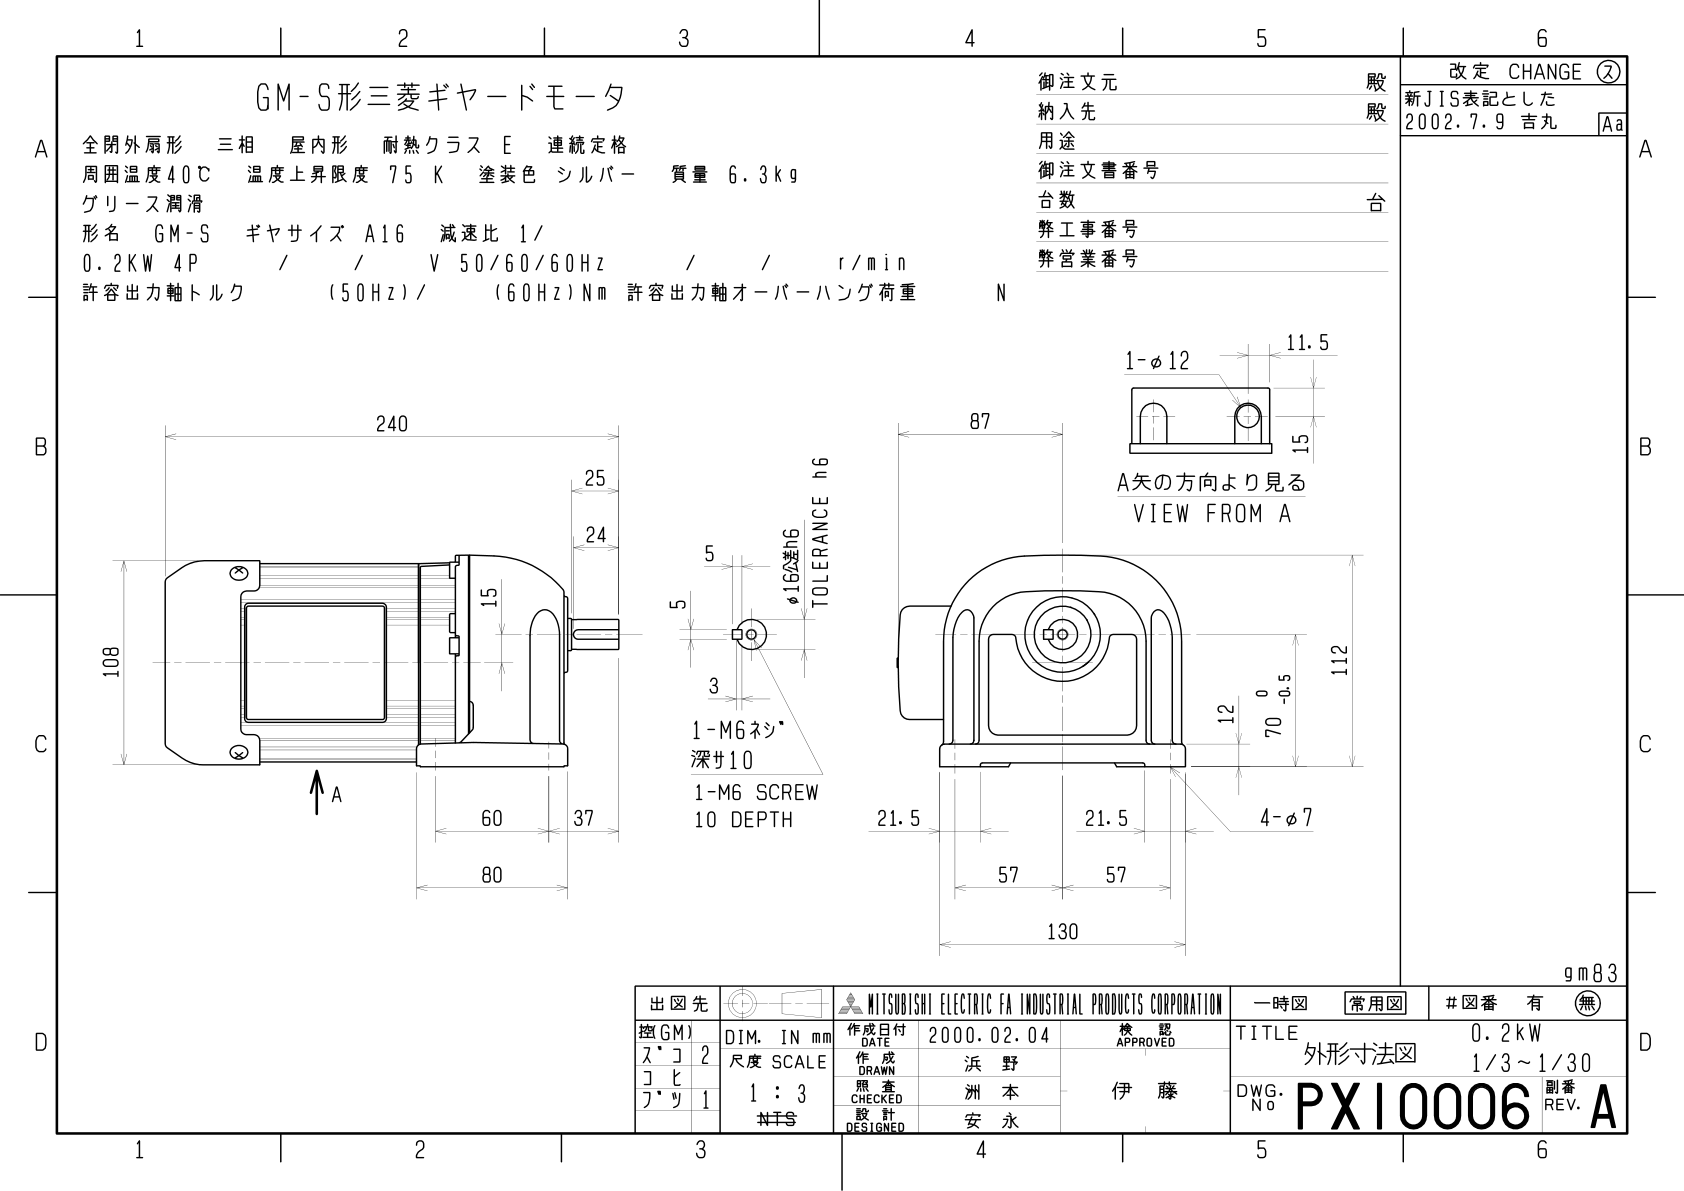GM_S_屋内＿三相_脚: (15, 5, 1684, 1186)
